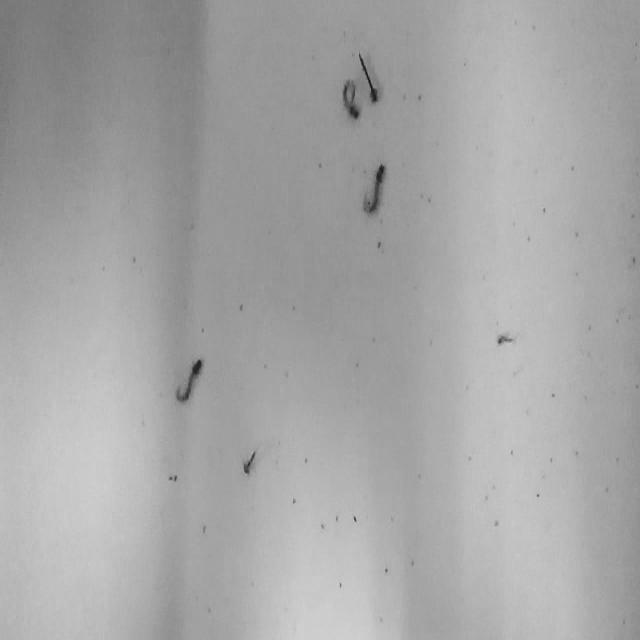larvas: (362, 160, 386, 214), (176, 354, 202, 402), (357, 51, 379, 102), (342, 77, 359, 120), (242, 447, 258, 474), (497, 331, 517, 345)
